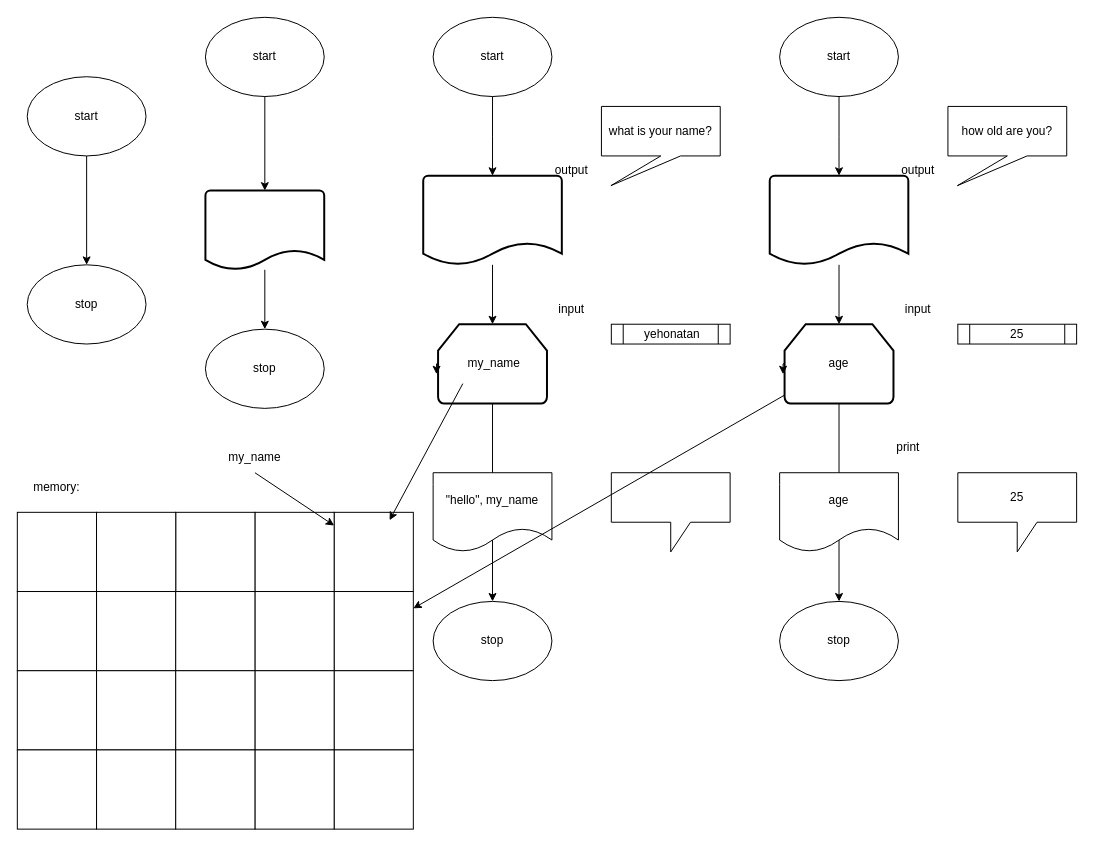
The diagram is 1094 pixels wide and 846 high, and some of its shapes have lost their labels. Here are the shapes that lost their labels. From the top down, the centre of each, then its label:
(264,229): "hello yehonatan"
(492,219): "what is your name?"
(838,219): "how old are you ?"
(373,551): "yehonatan" my_name
(373,631): 25 age
